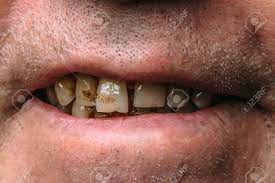decay: (76, 76, 97, 105), (167, 86, 189, 108), (53, 79, 72, 102), (190, 90, 210, 107), (73, 99, 92, 116)
rough: (95, 75, 131, 114), (133, 78, 166, 110)
